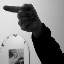g: (2, 3, 41, 32)
